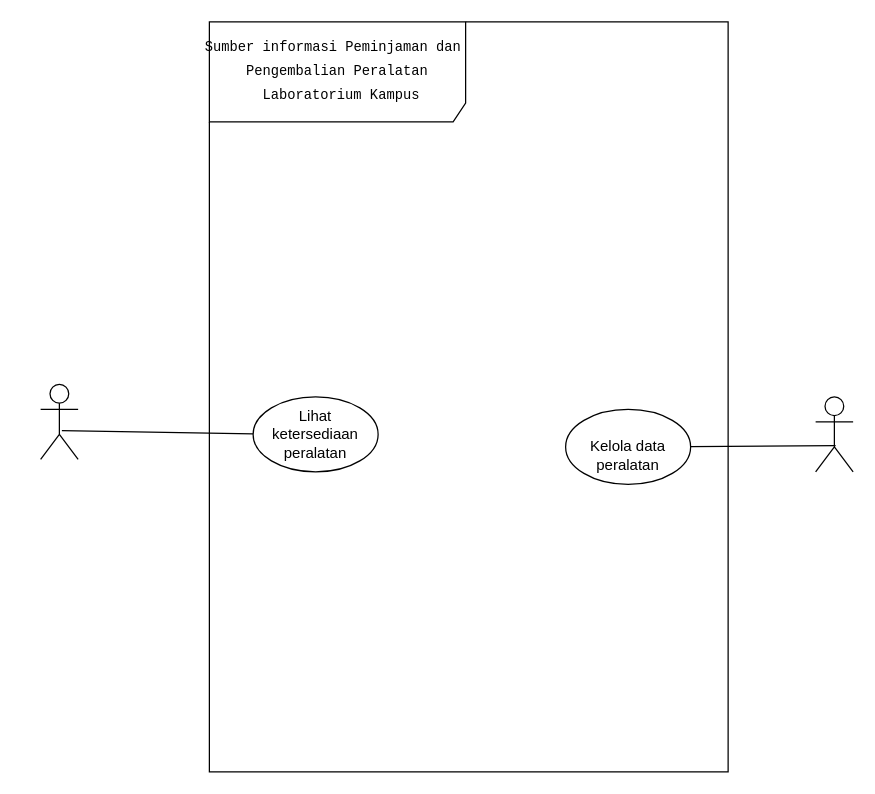
Some shapes in this 875 by 794 pixel diagram are drawn without their labels. Here are the shapes that lost their labels. From the top down, the box of each, then its label:
(39, 383, 78, 459): Mahasiswa
(814, 396, 853, 472): Actor
